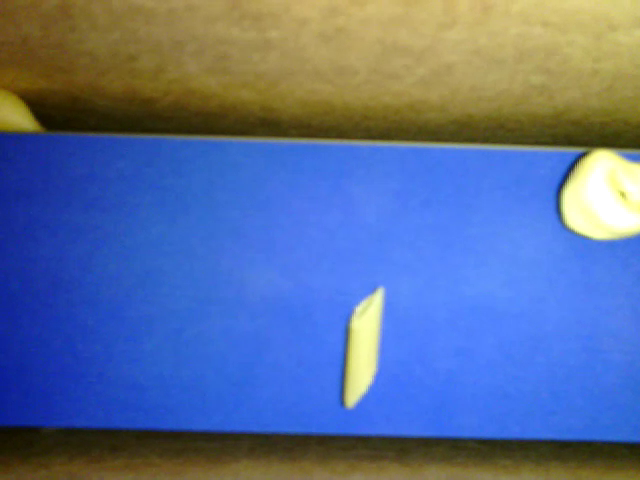penne: (340, 284, 386, 407)
shell: (1, 91, 47, 131)
tortellini: (556, 145, 639, 245)
